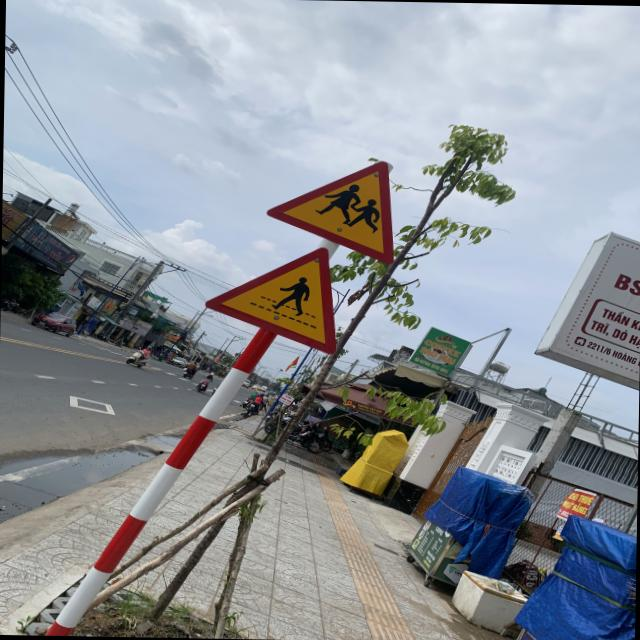Duong_Nguoi_Di_Bo_Sang_Ngang: (202, 243, 340, 354)
Vong_Xuyen: (263, 158, 397, 262)
